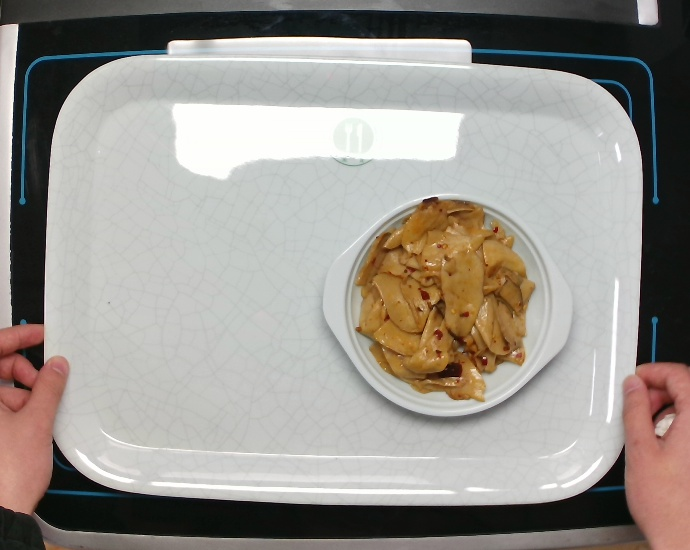JYsf-Shuang_Er_Pan: (319, 193, 583, 427)
